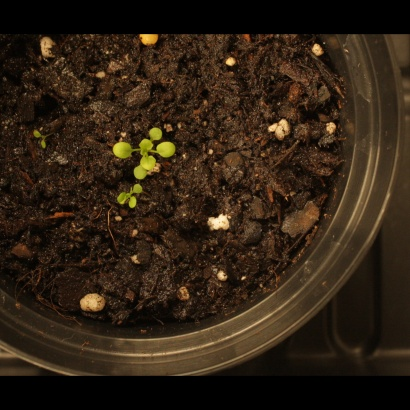leaf: (111, 140, 134, 163), (147, 117, 170, 140), (158, 137, 181, 160), (139, 149, 162, 172), (127, 160, 150, 183), (128, 176, 151, 199), (126, 196, 149, 219), (108, 187, 131, 210)
